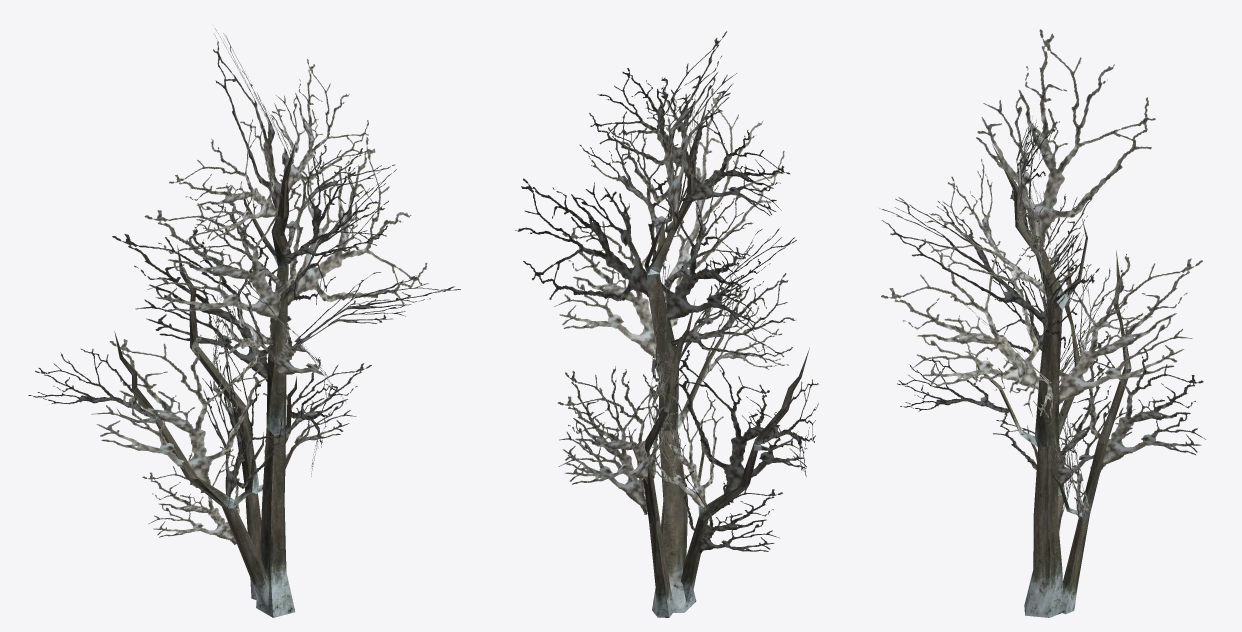
File: environment_Tree_xue_002_d.FBX
3 renders of one model, left to right at view 1: azimuth 30°, elevation 25°; view 2: azimuth 150°, elevation 25°; view 3: azimuth 270°, elevation 25°, orthographic. The views are drawn at different scales.
Visible parts, largest first — view 1: environment_Tree_xue_002_d; view 2: environment_Tree_xue_002_d; view 3: environment_Tree_xue_002_d.
Part boxes in pixels (bbox=[...]): environment_Tree_xue_002_d: bbox=[28, 28, 460, 617]; environment_Tree_xue_002_d: bbox=[515, 31, 818, 617]; environment_Tree_xue_002_d: bbox=[879, 29, 1205, 617].
Size of the model in its own units: 379 by 586 by 343.
